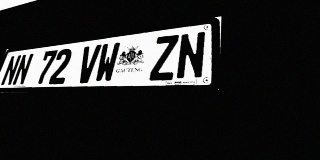2: (48, 48, 73, 84)
7: (34, 50, 58, 85)
N: (175, 31, 206, 80), (11, 53, 34, 86), (0, 55, 22, 86)
V: (75, 44, 102, 83)
W: (93, 42, 121, 83)
Z: (149, 34, 179, 81)
